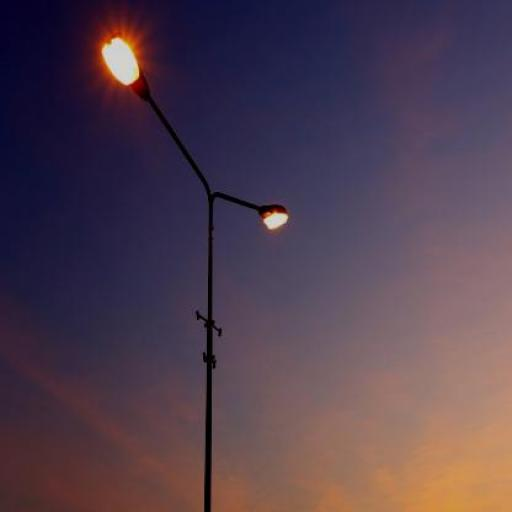street light: (101, 33, 289, 512)
